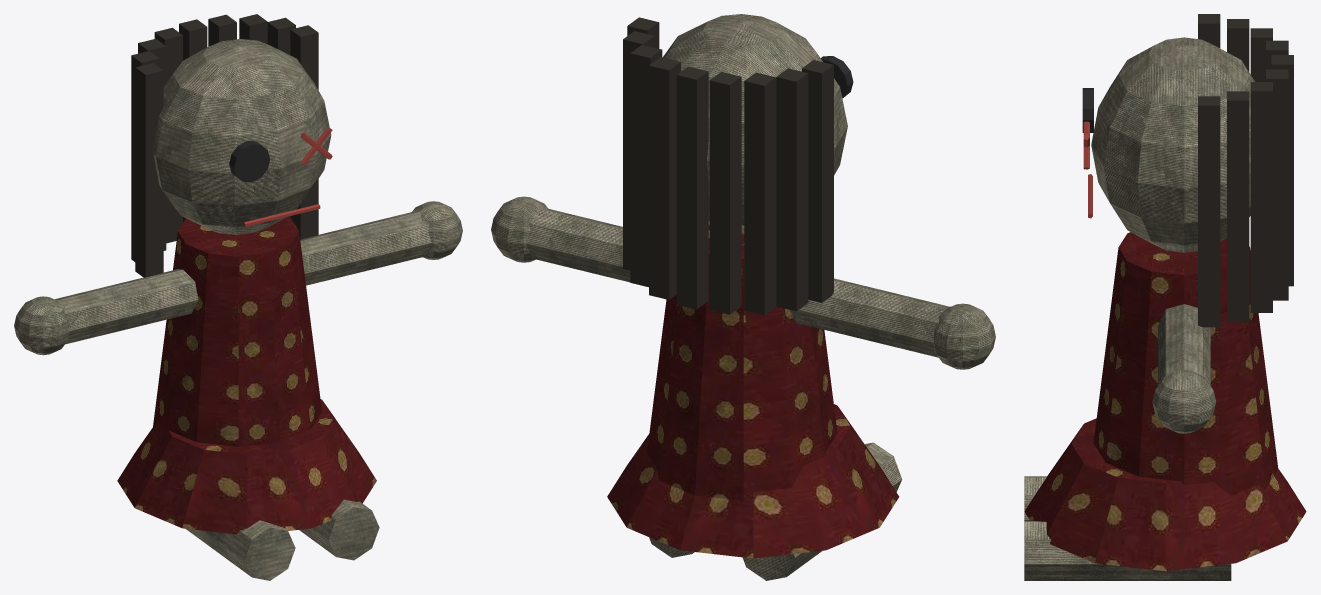
Rendered from doll.glb.
3 views of the same model, side by side, from view 1: azimuth 30°, elevation 25°; view 2: azimuth 150°, elevation 25°; view 3: azimuth 270°, elevation 25° (orthographic). The views are drawn at different scales.
Visible parts, largest first — view 1: Dress, Body, Hair, ButtonEye, Stitches; view 2: Dress, Hair, Body; view 3: Dress, Body, Hair, Stitches, ButtonEye.
Boxes of the visible parts, x1=… form: Dress: x1=117, y1=217, x2=376, y2=534; Body: x1=14, y1=39, x2=462, y2=580; Hair: x1=131, y1=14, x2=318, y2=277; ButtonEye: x1=229, y1=141, x2=270, y2=182; Stitches: x1=243, y1=127, x2=332, y2=226; Dress: x1=607, y1=225, x2=899, y2=558; Hair: x1=623, y1=17, x2=833, y2=315; Body: x1=491, y1=14, x2=995, y2=580; Dress: x1=1024, y1=232, x2=1306, y2=571; Body: x1=1024, y1=37, x2=1254, y2=580; Hair: x1=1198, y1=14, x2=1293, y2=327; Stitches: x1=1083, y1=121, x2=1092, y2=218; ButtonEye: x1=1082, y1=88, x2=1093, y2=132.
Bounding box in the file's own units: 0.294 × 0.2997 × 0.15.
Materials: 5 (2 with a texture image).
